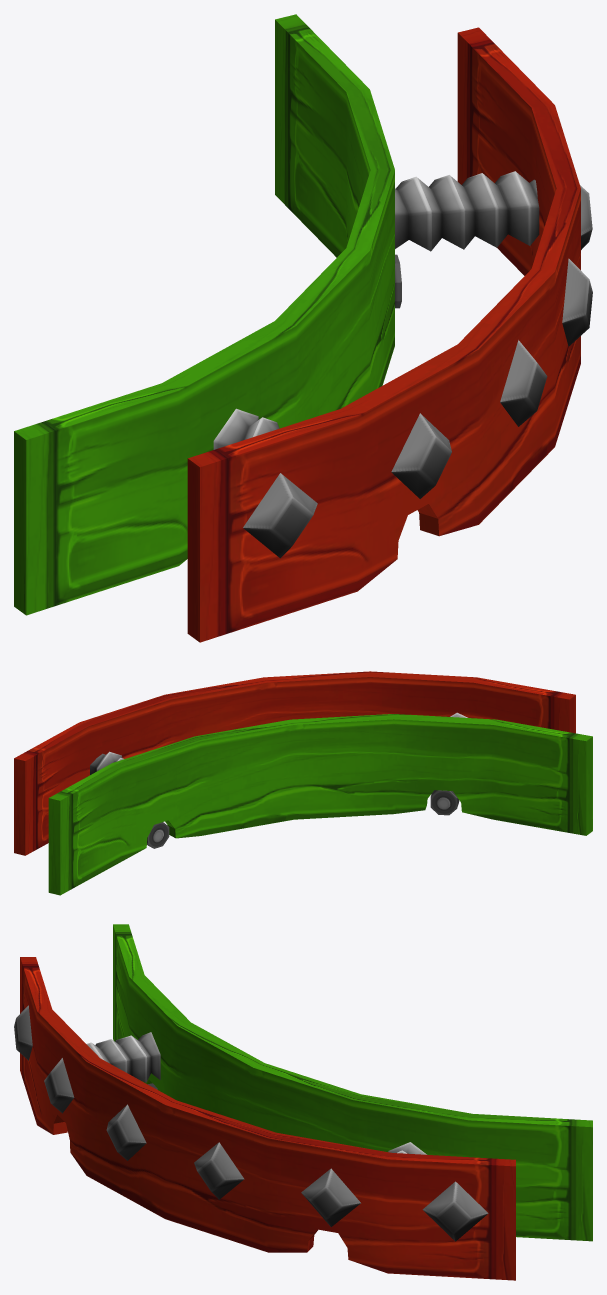
Rendered from dynamic_arched_fence_burger_04.fbx.
3 views of the same model, one above another, from view 1: azimuth 30°, elevation 25°; view 2: azimuth 150°, elevation 25°; view 3: azimuth 270°, elevation 25° (orthographic). The views are drawn at different scales.
Parts seen in each view (by area): view 1: dynamic_arched_fence_burger_04; view 2: dynamic_arched_fence_burger_04; view 3: dynamic_arched_fence_burger_04.
Part boxes in pixels (bbox=[...]): dynamic_arched_fence_burger_04: bbox=[14, 14, 592, 642]; dynamic_arched_fence_burger_04: bbox=[14, 671, 592, 895]; dynamic_arched_fence_burger_04: bbox=[14, 924, 592, 1280].
Size of the model in its own units: 185 by 40 by 184.
